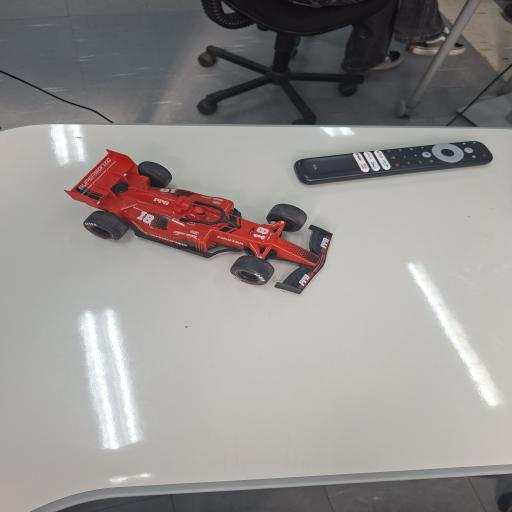carro: (68, 144, 345, 298)
